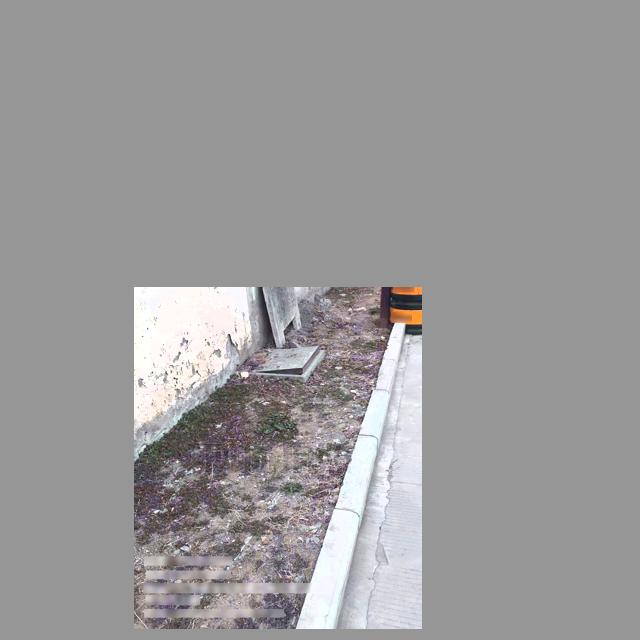uncovered: (249, 345, 325, 380)
